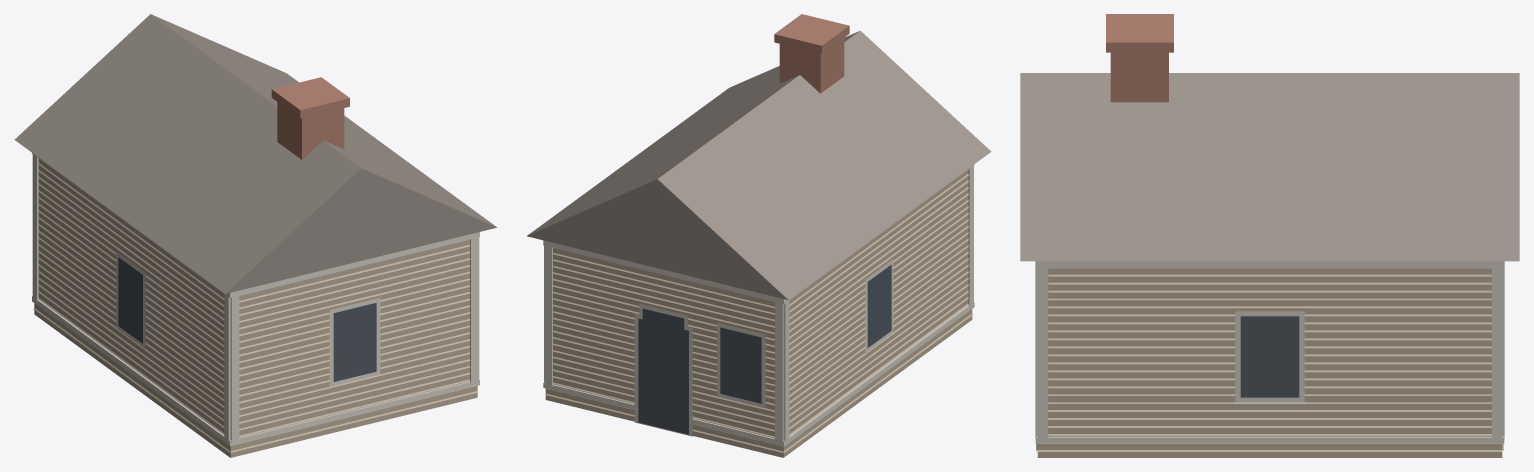
Rendered from inf_tailor_shop__inferred_1835.glb.
The picture shows the model from 3 angles, left to right: view 1: azimuth 30°, elevation 25°; view 2: azimuth 150°, elevation 25°; view 3: azimuth 270°, elevation 25°; orthographic projection. The views are drawn at different scales.
Parts seen in each view (by area): view 1: inf_tailor_shop__inferred_1835; view 2: inf_tailor_shop__inferred_1835; view 3: inf_tailor_shop__inferred_1835.
Part boxes in pixels (x1=…): inf_tailor_shop__inferred_1835: x1=14, y1=14, x2=496, y2=457; inf_tailor_shop__inferred_1835: x1=527, y1=14, x2=991, y2=457; inf_tailor_shop__inferred_1835: x1=1020, y1=14, x2=1519, y2=457.
Size of the model in its own units: 5.38 by 5.71 by 7.21.
